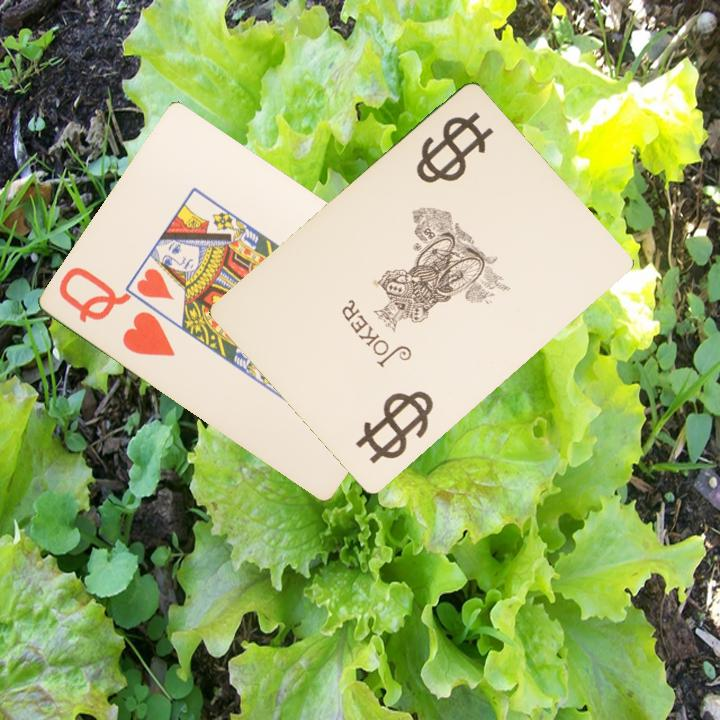JK: (412, 109, 497, 188), (367, 393, 431, 457)
Qh: (55, 263, 179, 360)
